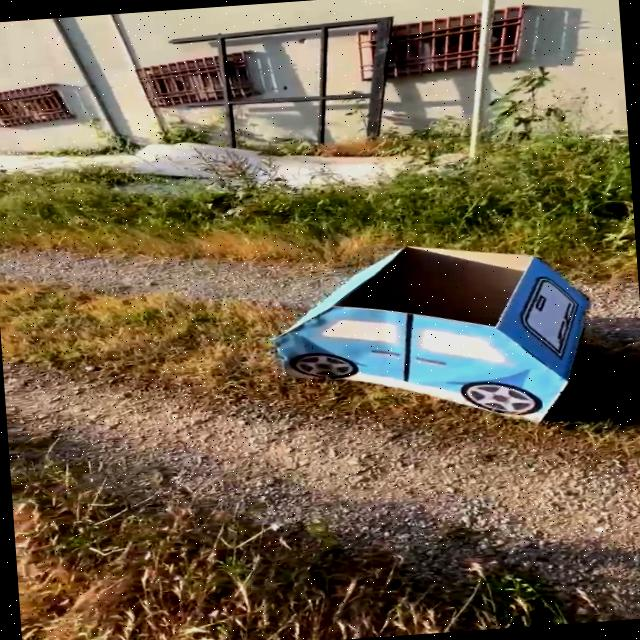blue_car: (197, 209, 640, 472)
